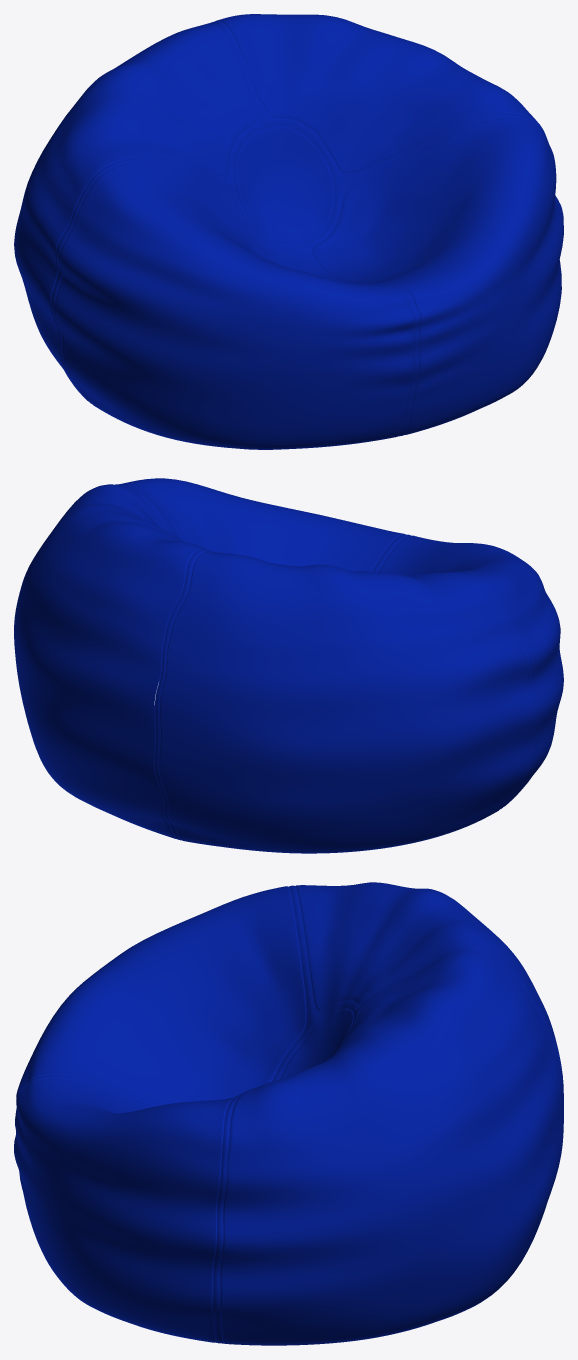
Rendered from beanbag2.fbx.
The picture shows the model from 3 angles, top to bottom: view 1: azimuth 30°, elevation 25°; view 2: azimuth 150°, elevation 25°; view 3: azimuth 270°, elevation 25°; orthographic projection. The views are drawn at different scales.
Visible parts, largest first — view 1: beanbag1; view 2: beanbag1; view 3: beanbag1.
Boxes of the visible parts, x1=… form: beanbag1: x1=14, y1=14, x2=563, y2=449; beanbag1: x1=14, y1=478, x2=563, y2=853; beanbag1: x1=14, y1=882, x2=563, y2=1345.
Size of the model in its own units: 124 by 65.2 by 111.
